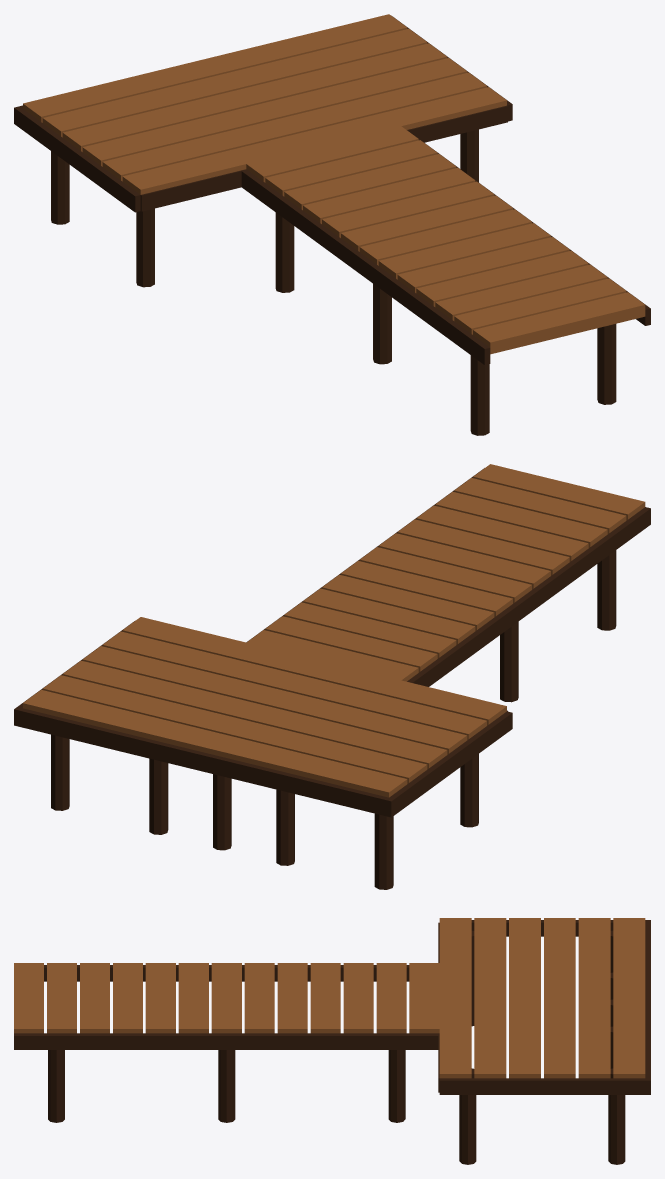
File: pier.glb
3 renders of one model, top to bottom at view 1: azimuth 30°, elevation 25°; view 2: azimuth 150°, elevation 25°; view 3: azimuth 270°, elevation 25°, orthographic. The views are drawn at different scales.
Visible parts, largest first — view 1: Pier_Jetty; view 2: Pier_Jetty; view 3: Pier_Jetty.
Boxes of the visible parts, x1,y1,x2,y2 form: Pier_Jetty: (14, 14, 650, 435); Pier_Jetty: (14, 464, 650, 889); Pier_Jetty: (14, 918, 650, 1164).
Bounding box in the file's own units: 5.36 × 1.5 × 8.98.
Materials: 1 (1 with a texture image).
